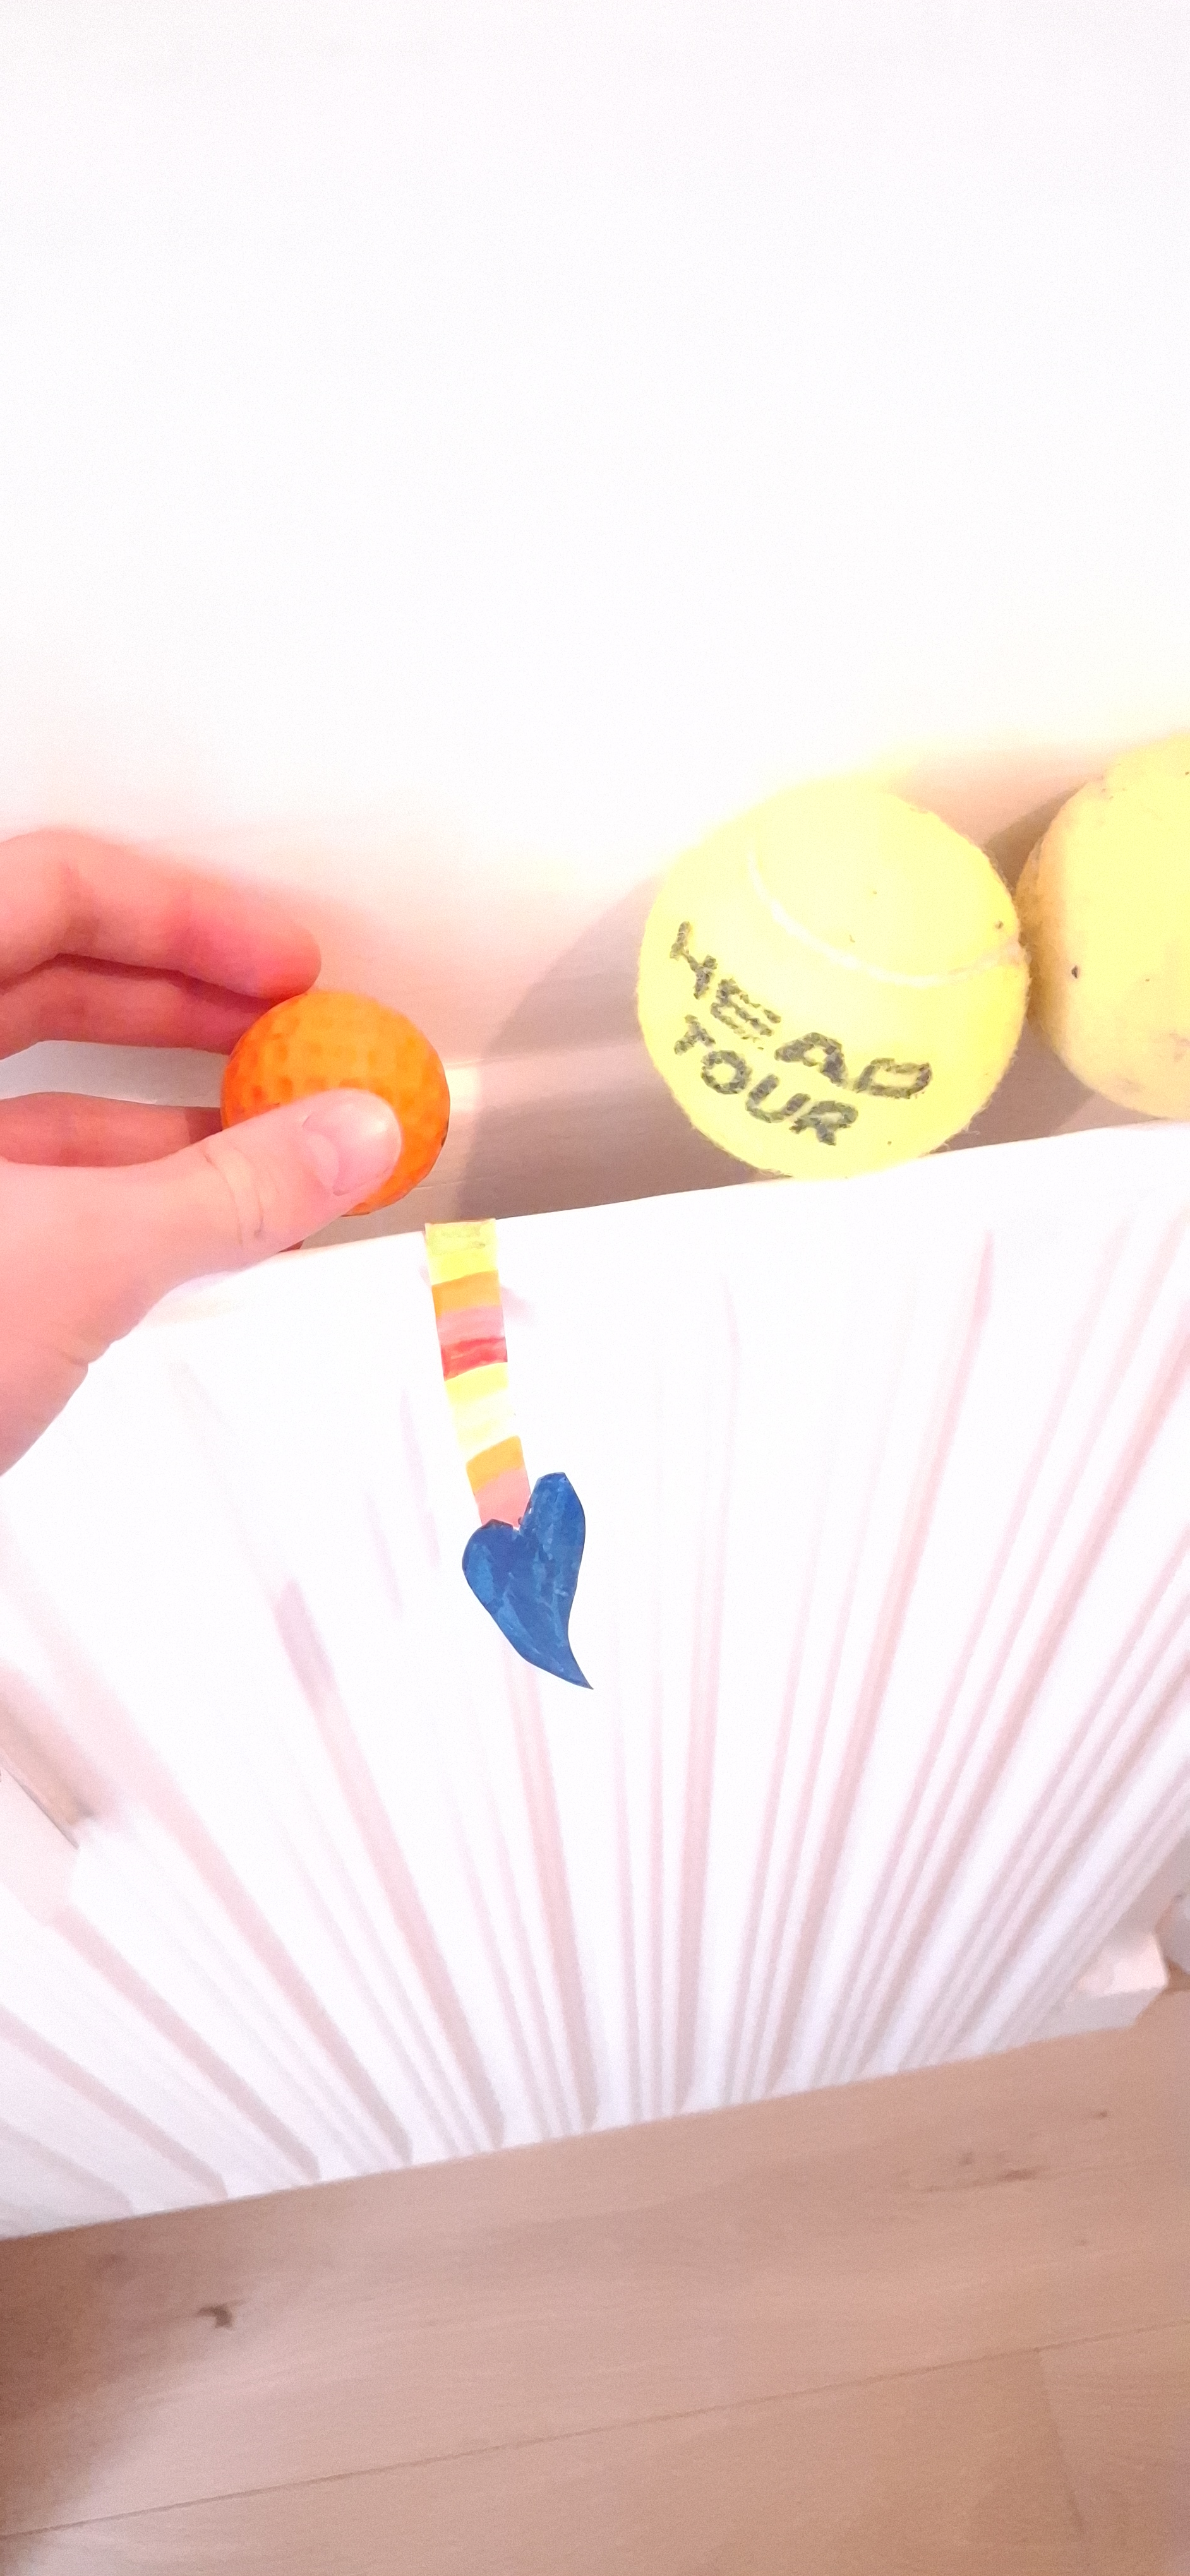ball: (457, 1603, 565, 2100)
